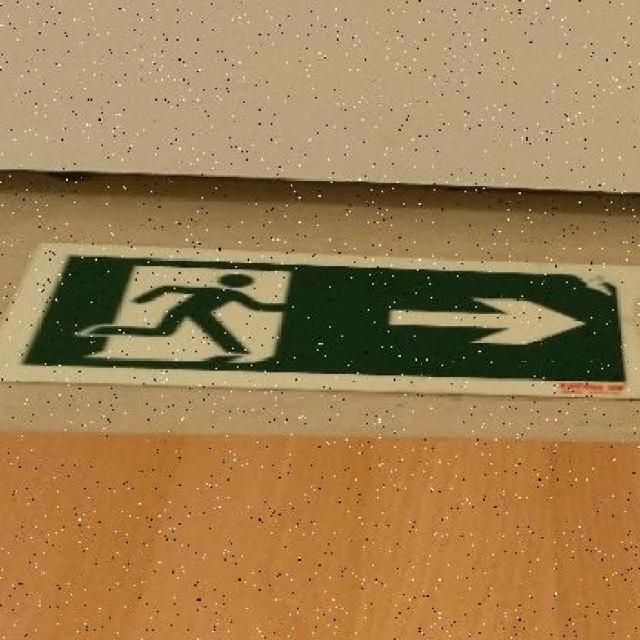emergency_exit: (2, 241, 638, 400)
